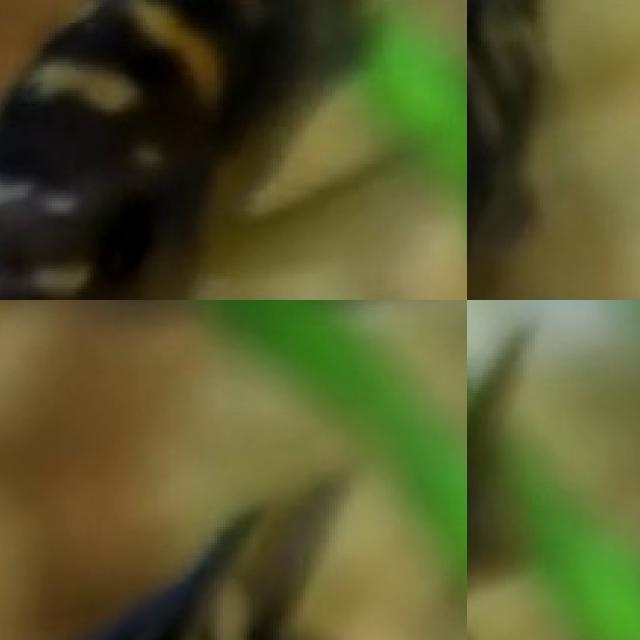fish: (0, 0, 467, 300), (467, 327, 594, 640)
